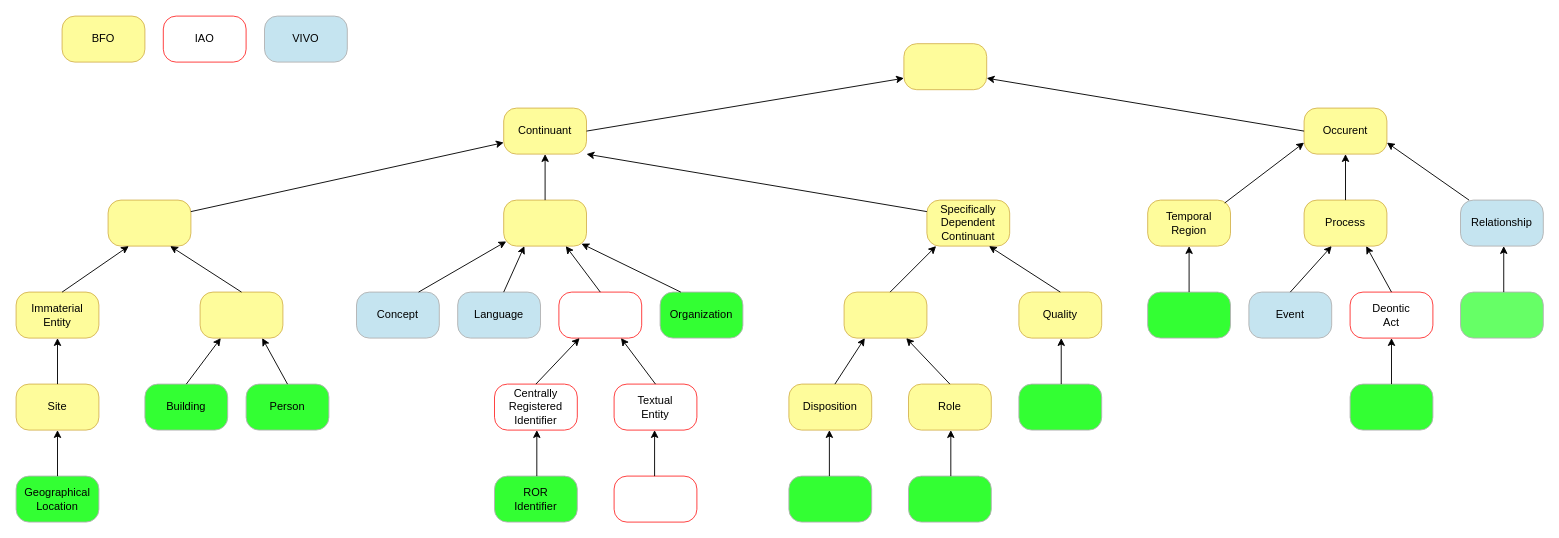
Image size: 1559x538. Some labels were removed from this diagram. Here are the shapes that lost their labels. From the top down, the centre of each, then its label:
[945,66]: Entity
[149,222]: Independent Continuant
[544,222]: Generically Dependent Continuant
[241,314]: Material Entity
[600,314]: Information Content Entity
[885,314]: Realizable Entity
[1188,314]: Instant
[1501,314]: Organizational Membership
[1060,406]: Student-led Organization Quality
[1391,406]: Founding Process
[655,498]: Postal Address
[830,498]: Library Disposition
[949,498]: Employer Role
